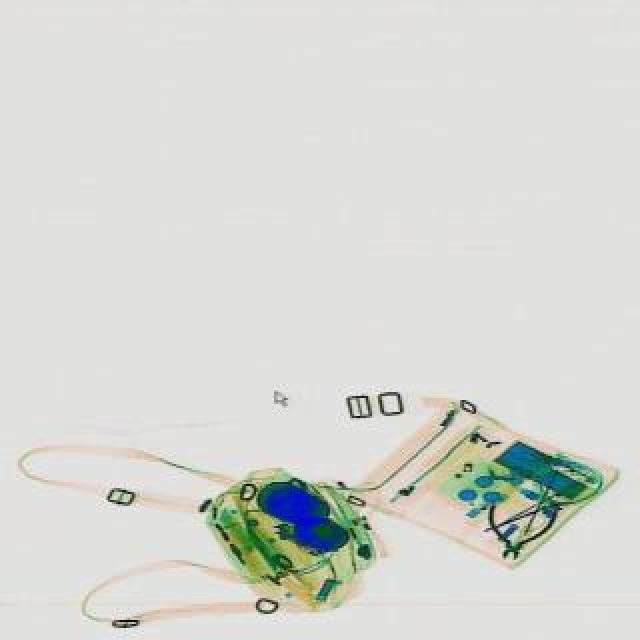wrench: (476, 494, 556, 566)
